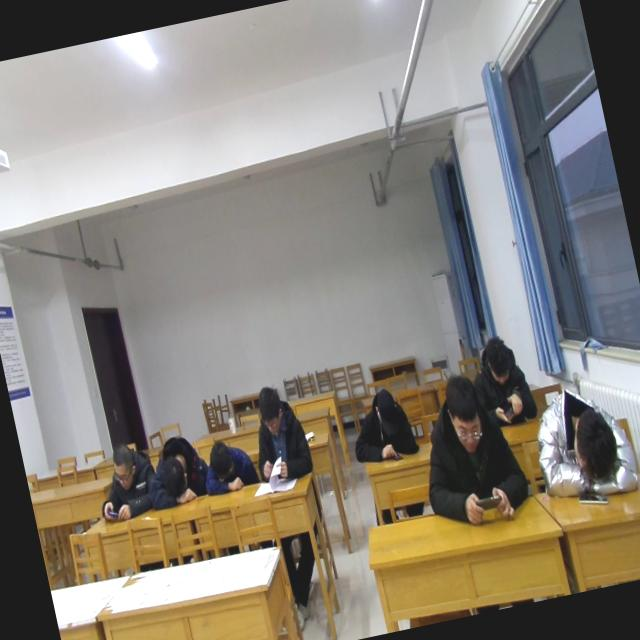bow: (522, 371, 640, 510), (86, 436, 165, 524), (342, 382, 422, 468), (137, 426, 215, 512), (195, 432, 261, 500)
down: (436, 368, 490, 458), (247, 382, 290, 437), (478, 331, 518, 385), (104, 438, 142, 490), (365, 383, 403, 432)
sit: (401, 361, 535, 538), (463, 328, 542, 435), (241, 378, 317, 489)
